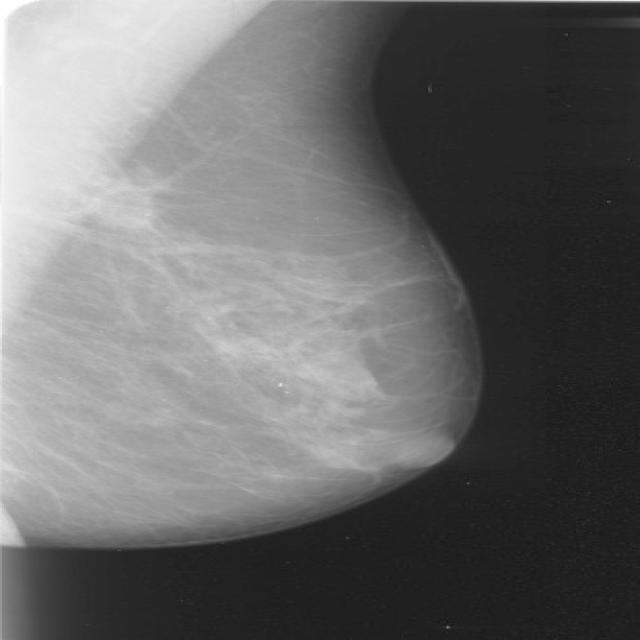tumour: (80, 180, 156, 230)
